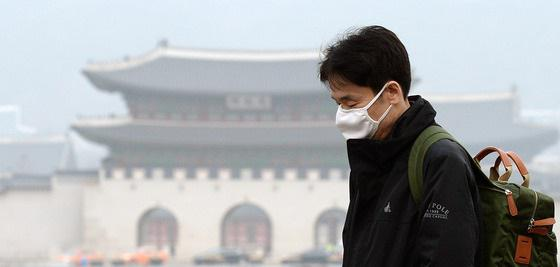OK: (330, 93, 384, 147)
